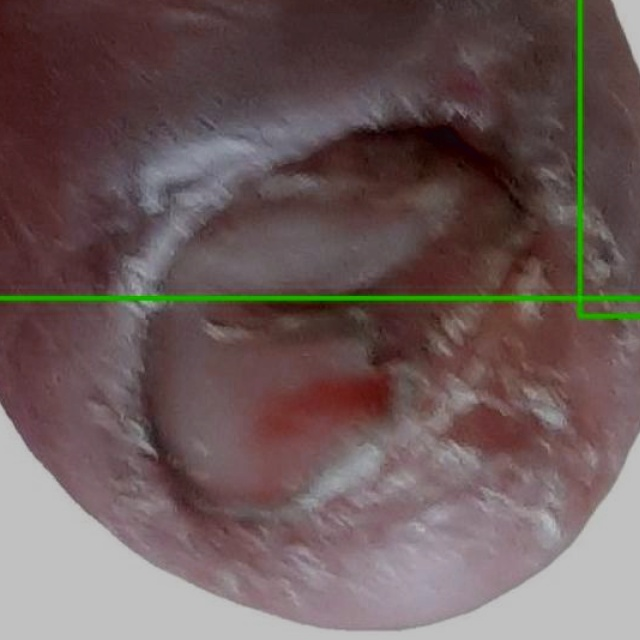Contact Dermatitis: (0, 298, 639, 639)
